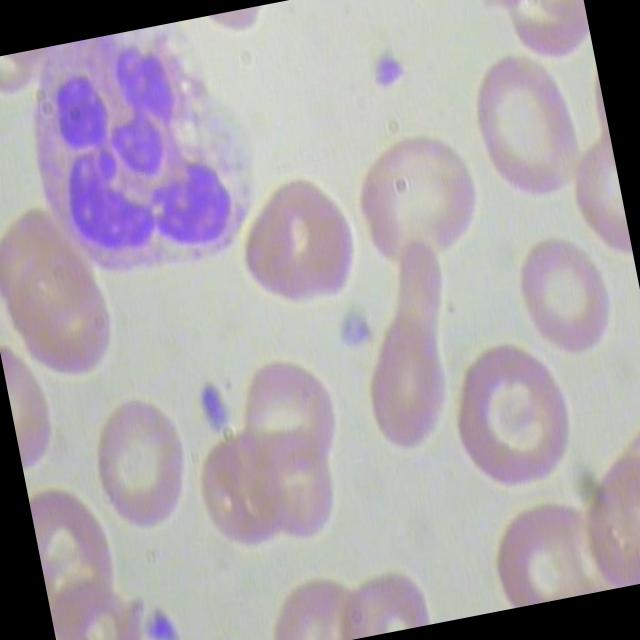Platelets: (188, 372, 232, 441), (361, 42, 413, 100), (331, 300, 383, 358), (130, 606, 182, 640)
RBC: (336, 235, 482, 464), (434, 332, 585, 502), (344, 119, 496, 287), (221, 158, 368, 328), (68, 382, 206, 550), (454, 42, 590, 211), (0, 194, 112, 351), (506, 229, 624, 378), (476, 489, 618, 612), (2, 264, 126, 394), (189, 424, 302, 562), (235, 352, 348, 488), (250, 442, 352, 560), (47, 571, 157, 640)
WBC: (21, 10, 292, 298)
